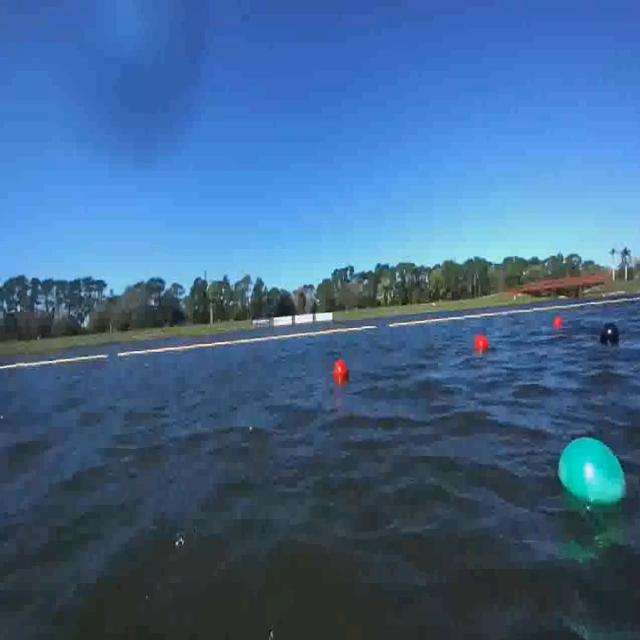black-buoy: (598, 324, 620, 346)
green-buoy: (559, 439, 628, 513)
red-buoy: (335, 359, 350, 385), (476, 336, 490, 354), (555, 316, 564, 329)
